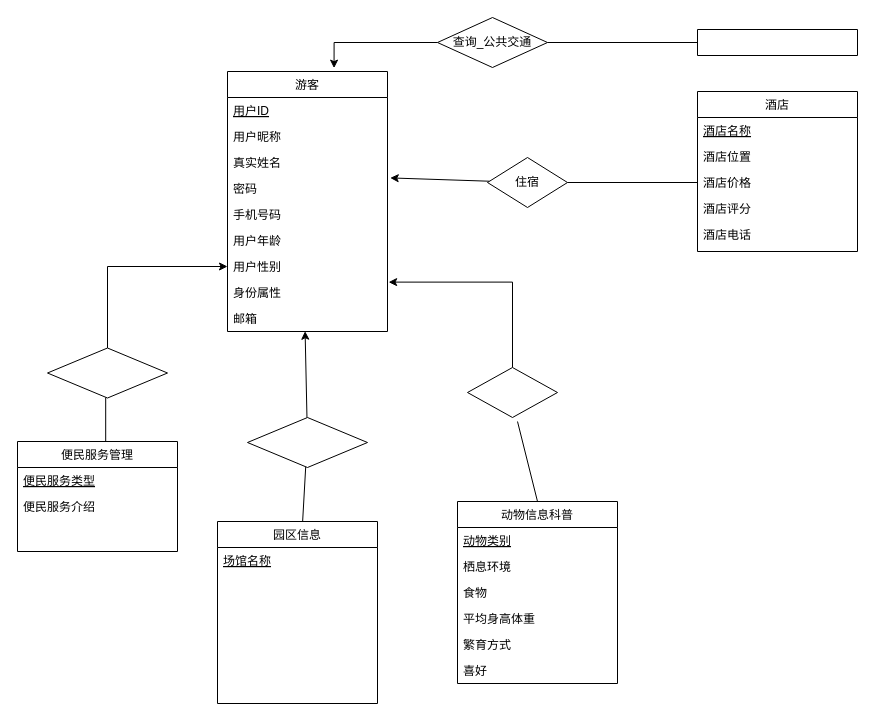
Some shapes in this 875 by 721 pixel diagram are drawn without their labels. Each missing label, with the centre of its shape:
了解_园区: the point at 307,442
了解_科普: the point at 512,392
使用: the point at 107,372
园外公共交通: the point at 777,42
